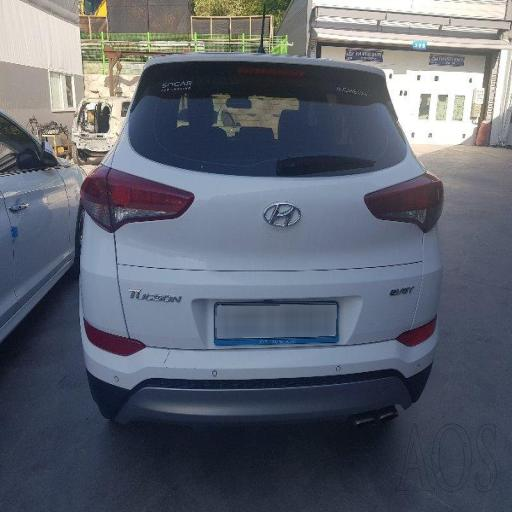dent: (107, 188, 228, 314)
